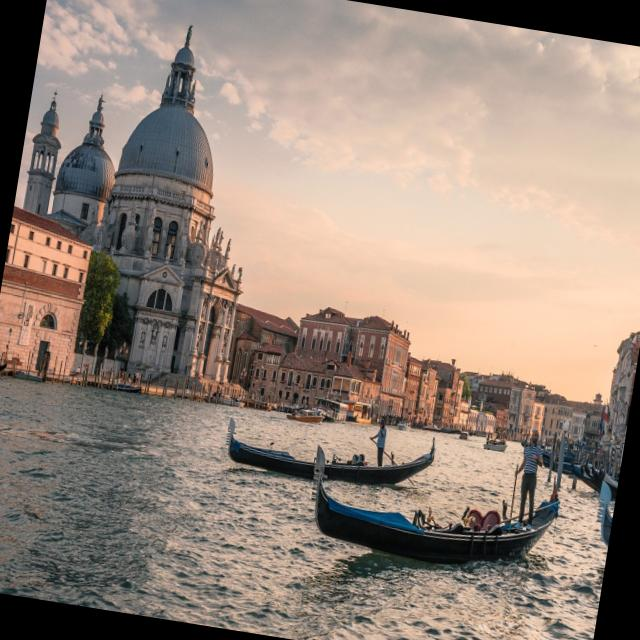boat: (298, 399, 586, 592), (216, 390, 448, 506)
